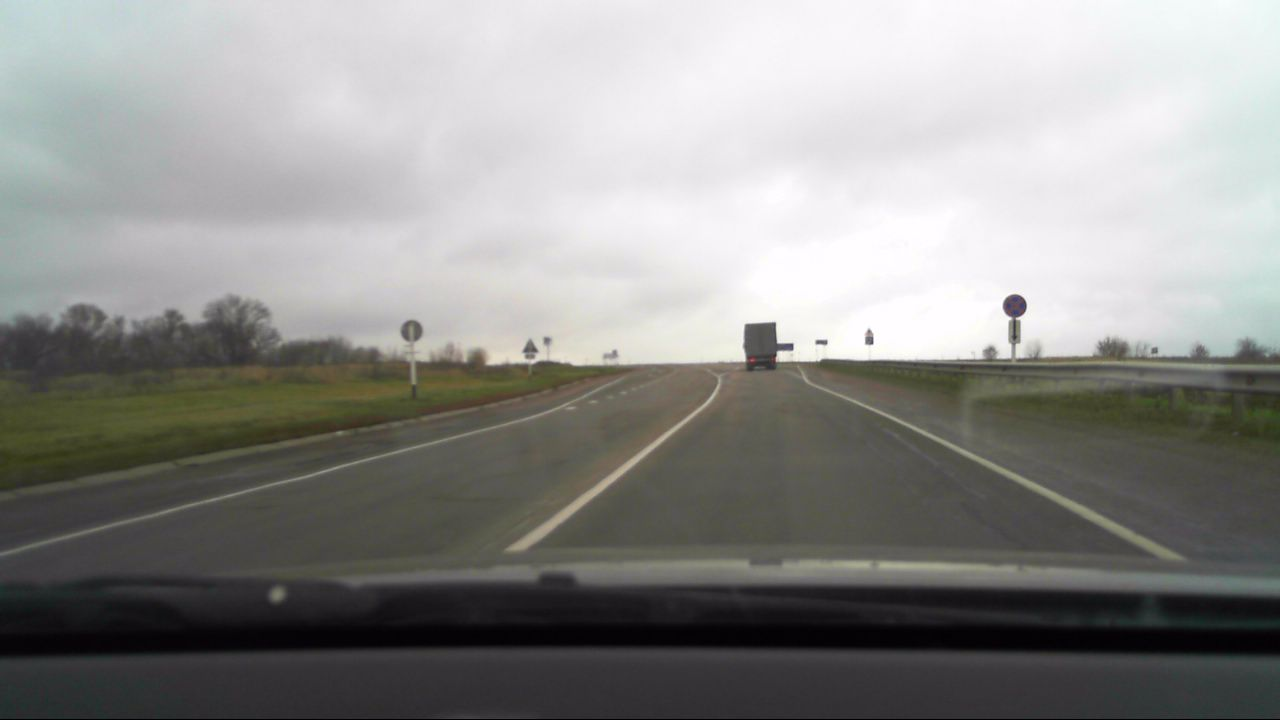No Parking: (1000, 293, 1029, 318)
